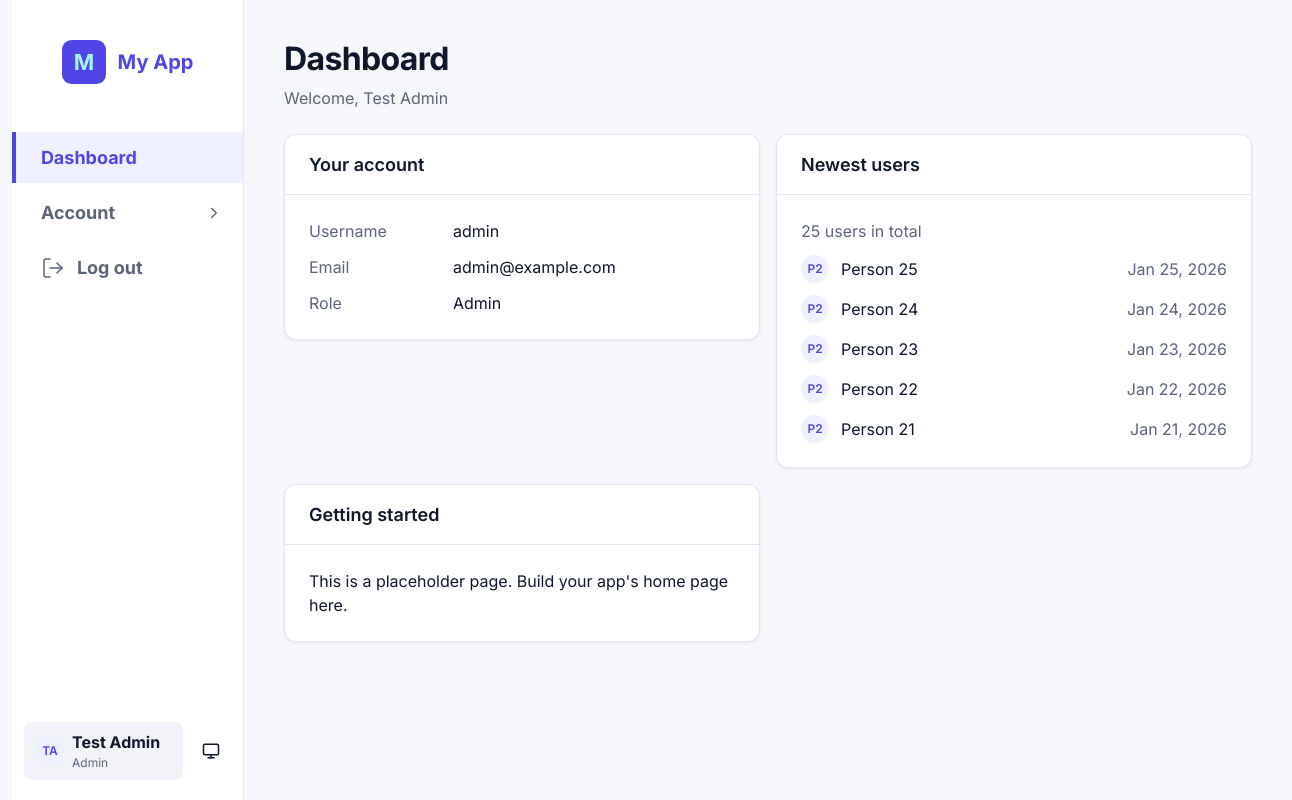
sidebar with menu groups › the group button unfolds and folds its pages
Expected: the heading "Dashboard" is shown, [284, 40, 449, 78]
Click the button "Account".
click(128, 212)  # box [12, 187, 243, 238]
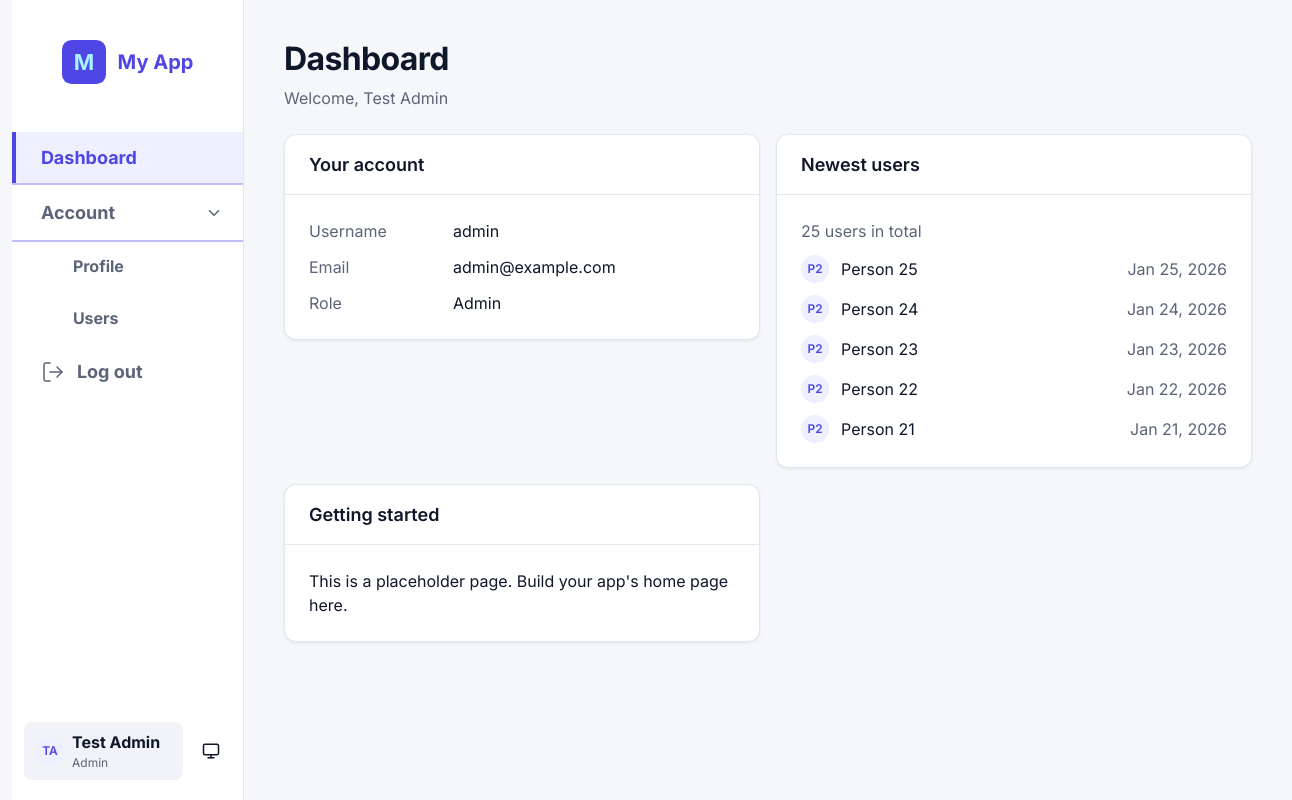
Now the button "Account" is expanded
Now the link "Profile" is shown, box [73, 256, 124, 276]
Now the link "Users" is shown, box [73, 308, 119, 328]
Click the button "Account".
click(128, 212)  # box [12, 187, 243, 238]
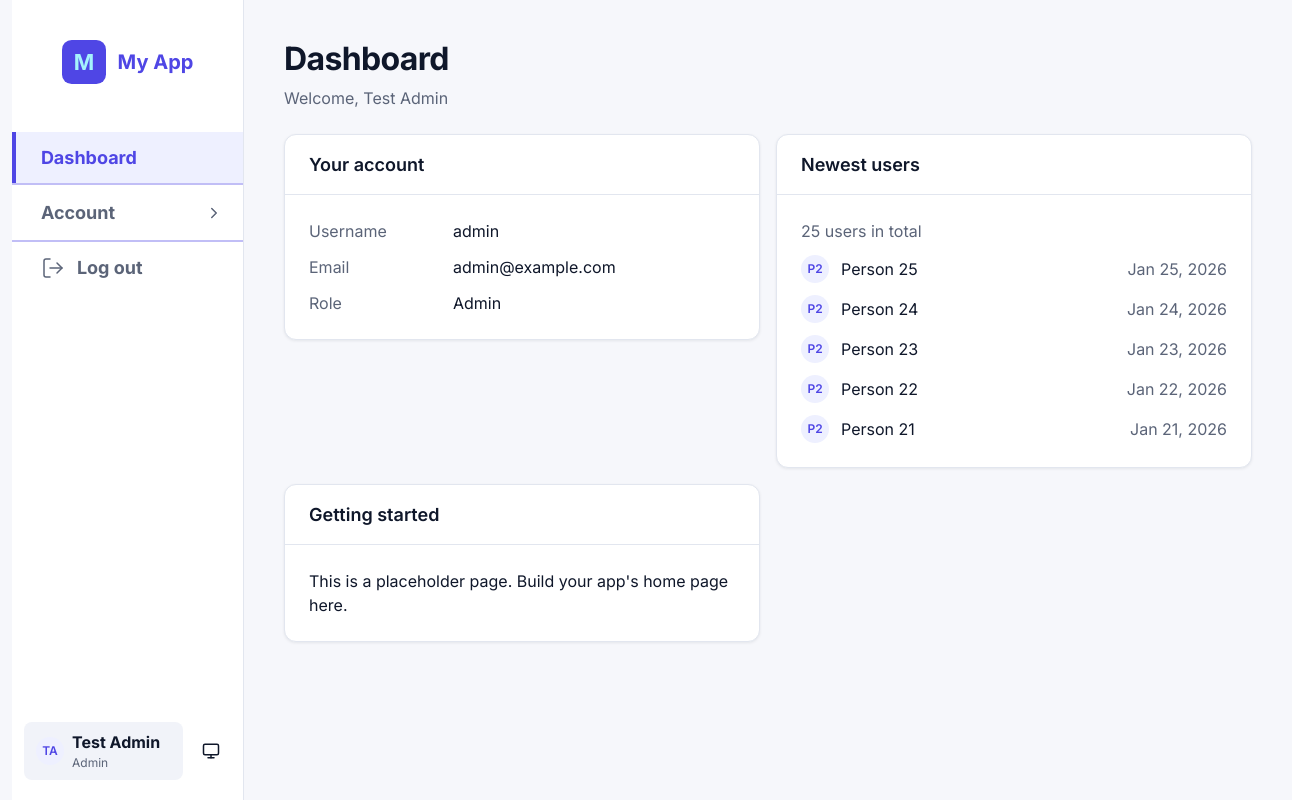
Now the button "Account" is collapsed, box [12, 187, 243, 238]
